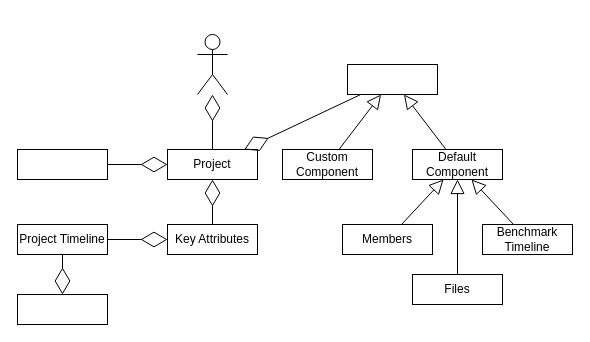
The diagram is 590 pixels wide and 342 high, and some of its shapes have lost their labels. Each missing label, with the centre of its shape:
"Company Timeline" goes at [62,309].
"Component" goes at [392,79].
"Project Manager" goes at [212,64].
"Project Status" goes at [62,164].
